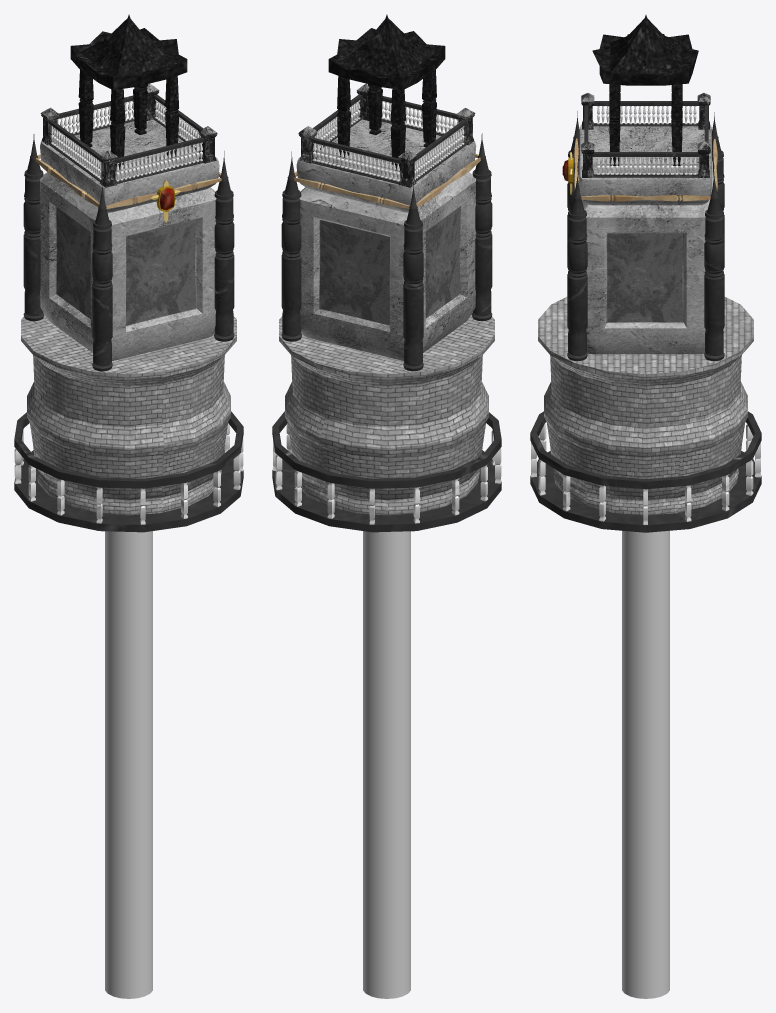
The model's file is tou_ue_morii.fbx.
3 renders of one model, left to right at view 1: azimuth 30°, elevation 25°; view 2: azimuth 150°, elevation 25°; view 3: azimuth 270°, elevation 25°, orthographic.
Visible parts, largest first — view 1: ue, sita, Cylinder014, hasira_soto, ue_1bann, sita1ban, sita_hasira006, ue_hasira_bou, hasira_tyuusin, Box005, kazari, Box092 (+2 smaller); view 2: ue, sita, Cylinder014, hasira_soto, ue_1bann, sita1ban, sita_hasira006, ue_hasira_bou, hasira_tyuusin, Box027, kazari, Box092 (+2 smaller); view 3: sita, ue, Cylinder014, sita1ban, hasira_soto, ue_1bann, sita_hasira006, ue_hasira_bou, hasira_tyuusin, Box049, kazari, Box092.
Part boxes in pixels (<box>): ue: <box>39,117,219,361</box>; sita: <box>21,312,236,515</box>; Cylinder014: <box>105,531,152,998</box>; hasira_soto: <box>23,134,234,371</box>; ue_1bann: <box>70,14,187,171</box>; sita1ban: <box>14,411,243,532</box>; sita_hasira006: <box>14,423,243,524</box>; ue_hasira_bou: <box>48,94,204,183</box>; hasira_tyuusin: <box>40,83,217,187</box>; Box005: <box>116,142,202,181</box>; kazari: <box>35,154,221,208</box>; Box092: <box>50,125,101,179</box>; ue: <box>296,116,476,360</box>; sita: <box>279,312,494,515</box>; Cylinder014: <box>363,531,410,998</box>; hasira_soto: <box>281,133,492,371</box>; ue_1bann: <box>328,14,445,171</box>; sita1ban: <box>272,411,501,532</box>; sita_hasira006: <box>273,423,501,524</box>; ue_hasira_bou: <box>310,94,467,184</box>; hasira_tyuusin: <box>298,83,475,187</box>; Box027: <box>312,143,399,181</box>; kazari: <box>294,154,480,208</box>; Box092: <box>414,126,464,179</box>; sita: <box>538,297,753,515</box>; ue: <box>578,123,712,354</box>; Cylinder014: <box>622,530,669,998</box>; sita1ban: <box>530,411,761,532</box>; hasira_soto: <box>567,111,724,361</box>; ue_1bann: <box>592,15,698,165</box>; sita_hasira006: <box>531,422,760,524</box>; ue_hasira_bou: <box>584,101,708,177</box>; hasira_tyuusin: <box>581,93,710,177</box>; Box049: <box>597,157,696,174</box>; kazari: <box>573,138,717,201</box>; Box092: <box>597,106,696,124</box>.
Size of the model in its own units: 143 by 663 by 143.
